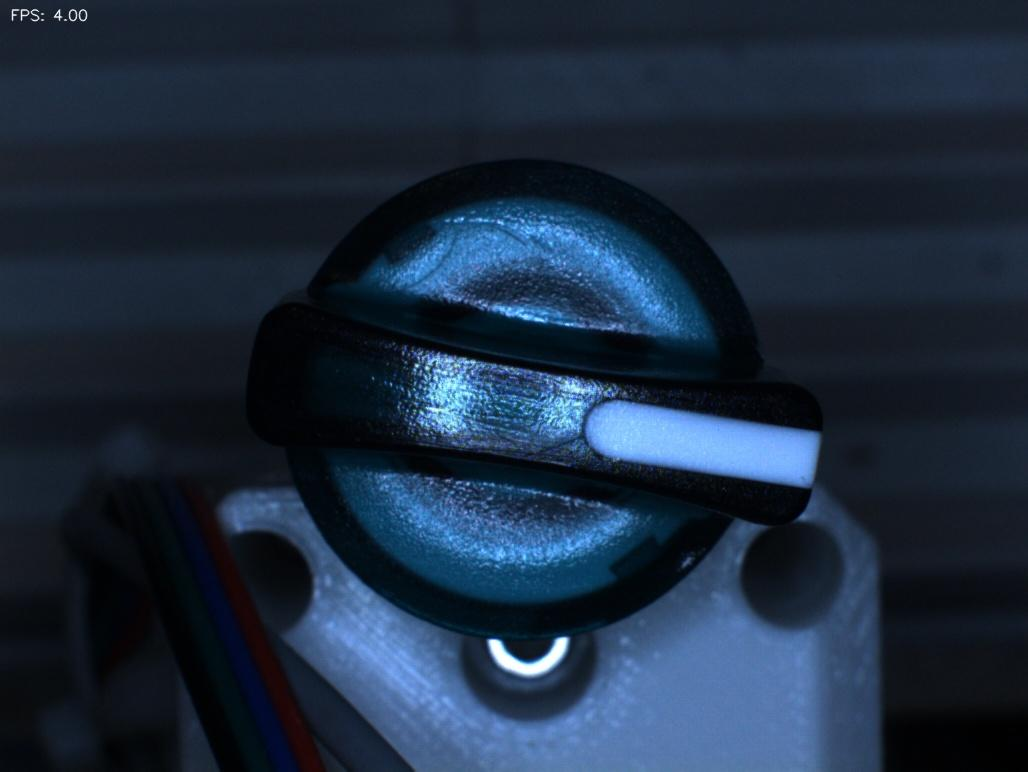Choc: (652, 519, 730, 600)
